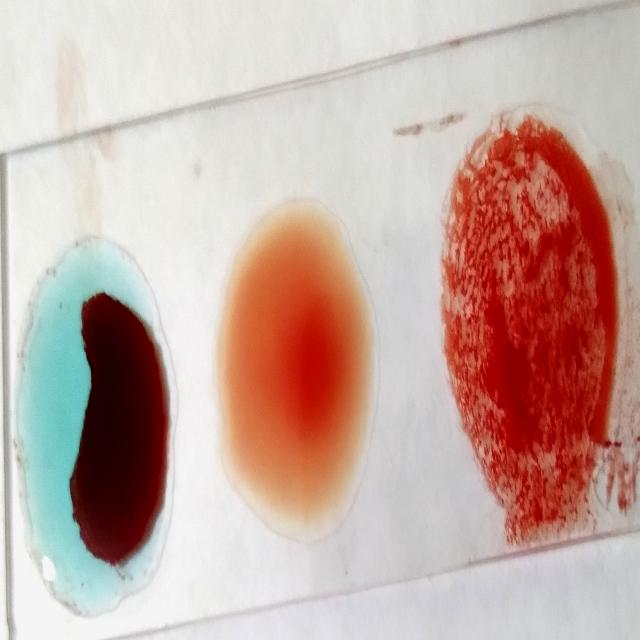A: (18, 216, 180, 619)
D: (438, 110, 624, 534)
